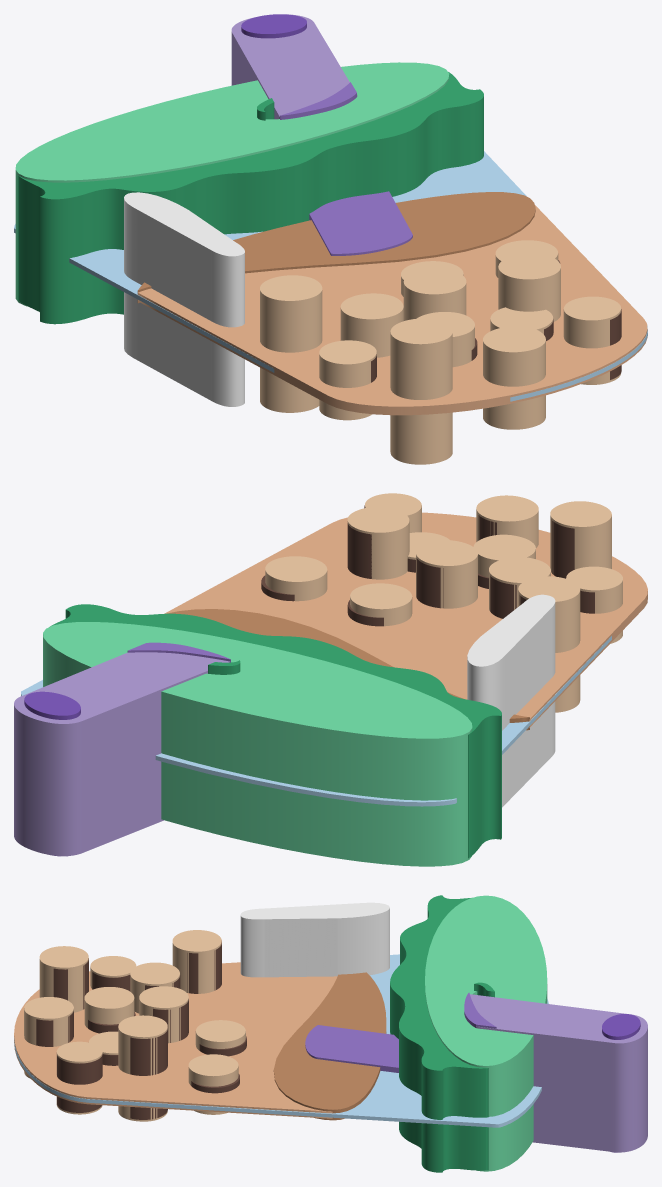
File: emoji_u1f9cb.glb
3 views of the same model, one above another, from view 1: azimuth 30°, elevation 25°; view 2: azimuth 150°, elevation 25°; view 3: azimuth 270°, elevation 25° (orthographic). The views are drawn at different scales.
Parts seen in each view (by area): view 1: emoji_u1f9cb; view 2: emoji_u1f9cb; view 3: emoji_u1f9cb.
Boxes of the visible parts, x1,y1,x2,y2 form: emoji_u1f9cb: (14,14,647,464); emoji_u1f9cb: (14,493,647,866); emoji_u1f9cb: (14,895,647,1172).
Size of the model in its own units: 0.0219 by 0.007 by 0.0326.
